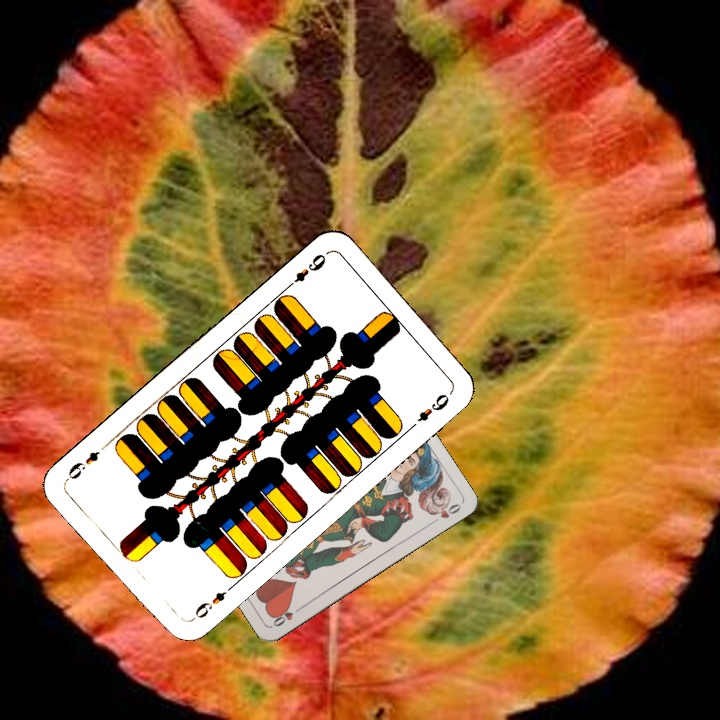E9: (186, 581, 236, 624), (282, 249, 329, 292)
HO: (269, 602, 305, 629)
